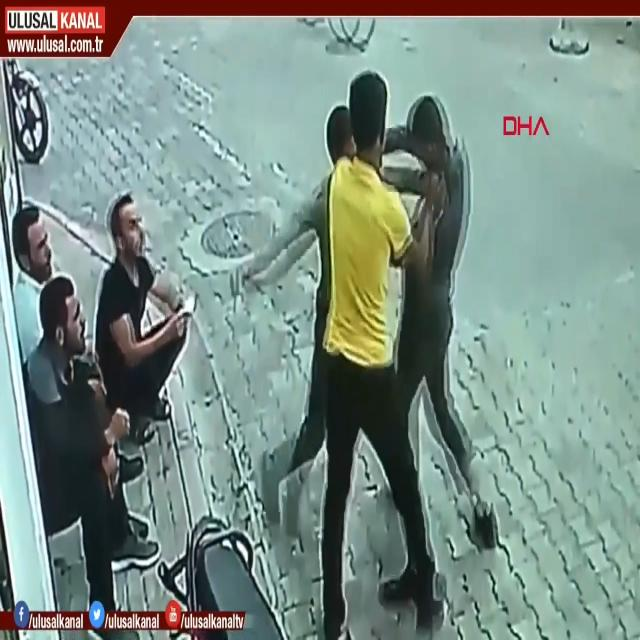fight: (250, 79, 488, 508)
